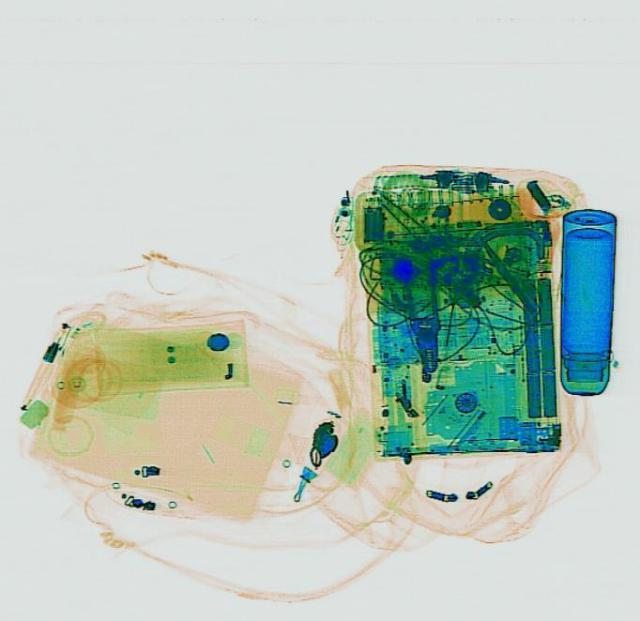Pliers: (396, 255, 444, 372)
